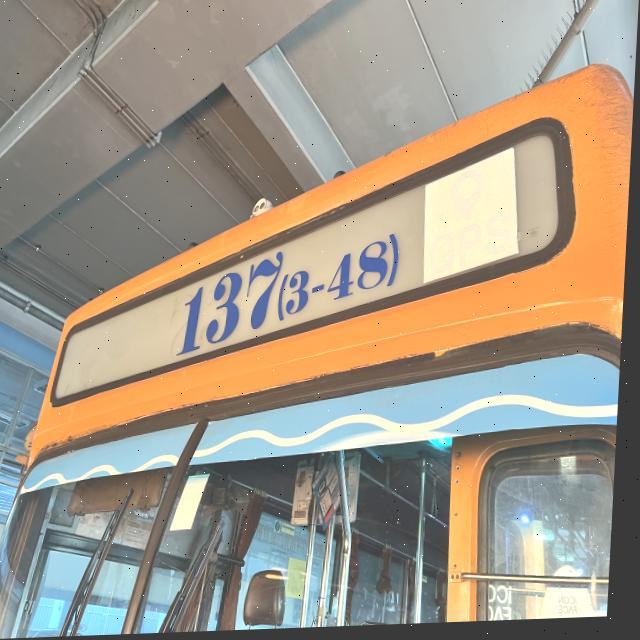BMTA-bus: (0, 69, 635, 639)
Bus Line Number: (170, 191, 421, 366)
